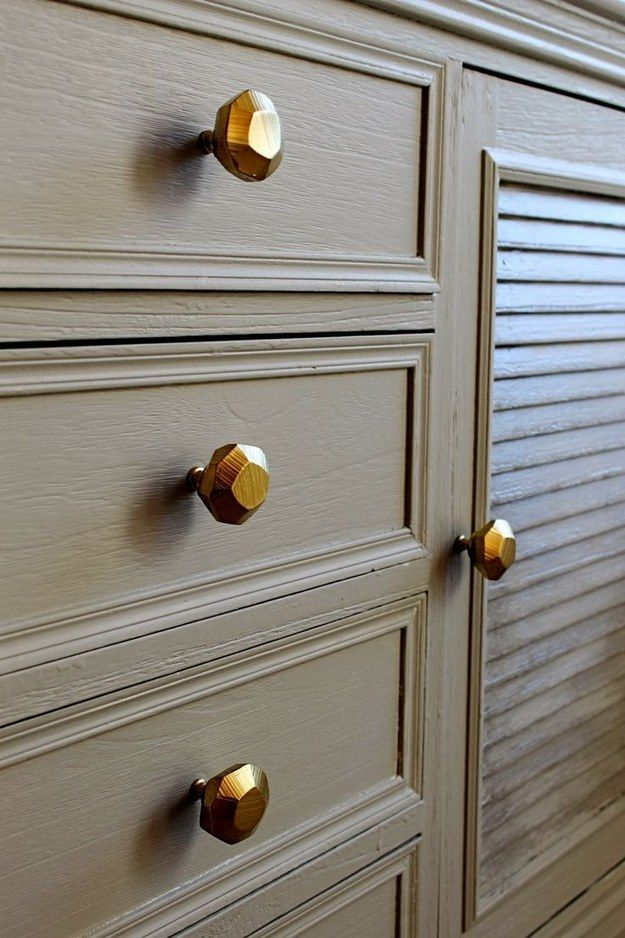cabinet door: (463, 96, 625, 838), (3, 27, 431, 276), (10, 637, 407, 874), (8, 354, 414, 576)
handle: (187, 61, 291, 221), (190, 427, 274, 545), (191, 753, 274, 862), (460, 489, 523, 603)
